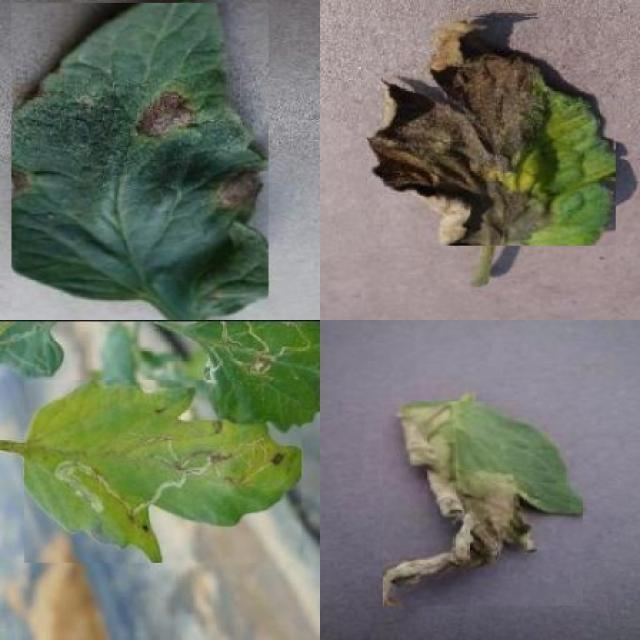Early Blight: (12, 3, 268, 320)
Late Blight: (366, 18, 616, 246), (383, 401, 583, 606)
Leaf Miner: (25, 380, 302, 563)
